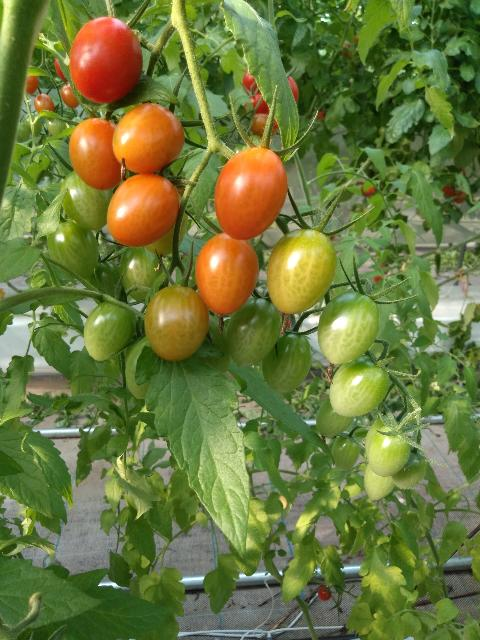l_fully_ripened: (69, 17, 143, 104), (242, 69, 261, 96), (245, 94, 269, 115), (318, 586, 332, 601)
l_green: (317, 291, 380, 364), (227, 297, 281, 368), (329, 355, 389, 418), (83, 299, 136, 361), (61, 169, 114, 230), (48, 219, 100, 281), (263, 330, 311, 394), (143, 192, 189, 257), (119, 246, 165, 304), (197, 309, 233, 374), (366, 425, 410, 477), (364, 414, 404, 457), (315, 395, 354, 437), (126, 334, 151, 399), (88, 260, 124, 305), (392, 450, 426, 490), (364, 463, 396, 500), (331, 435, 360, 471), (45, 113, 66, 138), (24, 112, 42, 137), (17, 122, 30, 143)
l_half_ripened: (215, 147, 287, 241), (266, 228, 337, 314), (107, 173, 179, 248), (195, 232, 259, 316), (112, 102, 185, 174), (145, 284, 209, 362), (69, 118, 127, 191), (250, 113, 276, 137), (33, 93, 55, 119), (61, 82, 79, 109), (26, 76, 38, 94)
